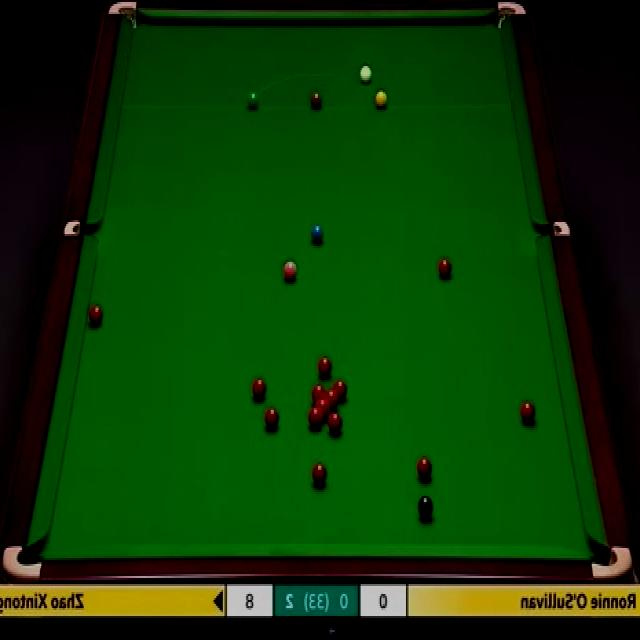black-ball: (416, 494, 434, 518)
blue-ball: (310, 222, 324, 247)
brown-ball: (310, 90, 323, 109)
green-ball: (246, 90, 259, 109)
pink-ball: (282, 262, 298, 284)
red-ball: (310, 462, 328, 488), (521, 398, 538, 423), (315, 356, 334, 378), (332, 376, 348, 402), (88, 304, 104, 329), (264, 406, 280, 431), (250, 378, 268, 400), (307, 408, 324, 431), (310, 384, 326, 408), (416, 456, 432, 480), (328, 410, 343, 434), (323, 390, 339, 410), (438, 260, 452, 278), (316, 399, 330, 416)
white-ball: (358, 64, 374, 83)
yellow-ball: (375, 90, 388, 109)
